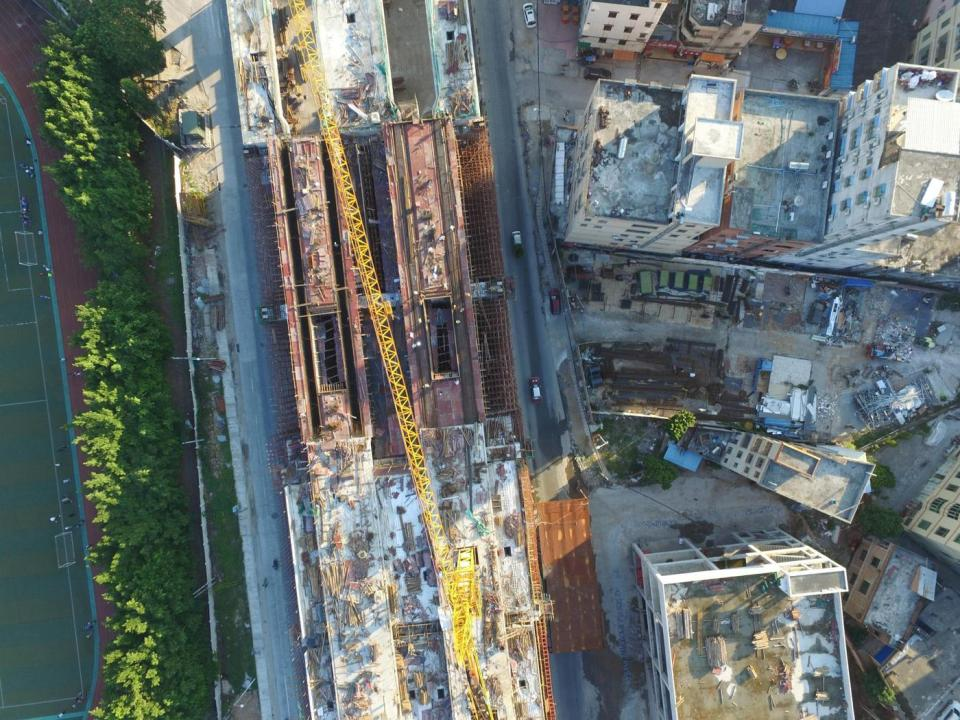car: (924, 419, 948, 447), (584, 66, 612, 82), (529, 376, 543, 404), (522, 3, 537, 29), (548, 288, 562, 315)
truck: (864, 339, 912, 362), (754, 357, 772, 392), (510, 230, 525, 258), (806, 301, 824, 324)
